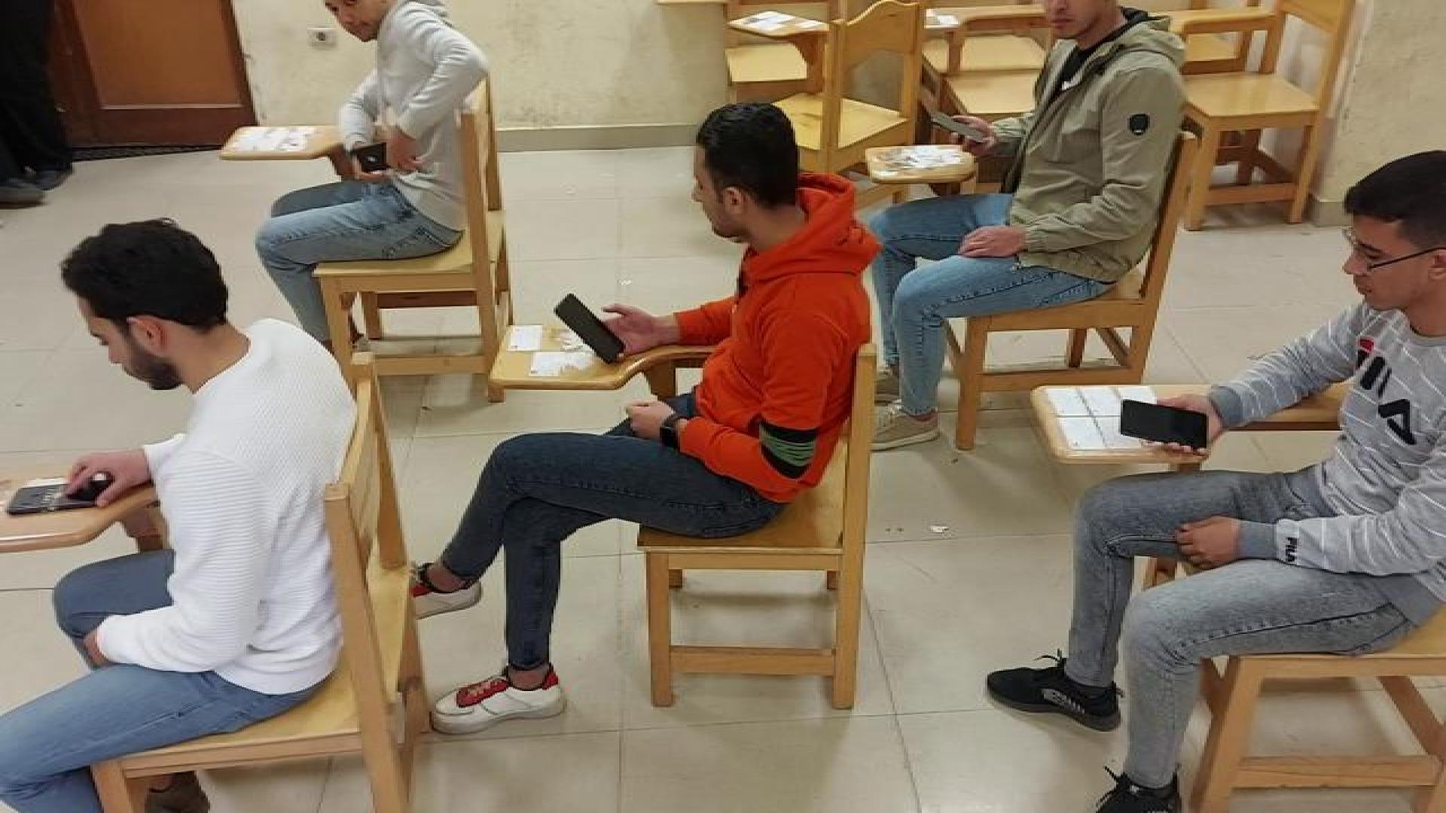phone: (554, 288, 630, 368), (1112, 396, 1216, 452), (6, 482, 128, 515), (927, 102, 991, 152), (359, 141, 418, 182)
